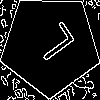L: (25, 20, 77, 69)
